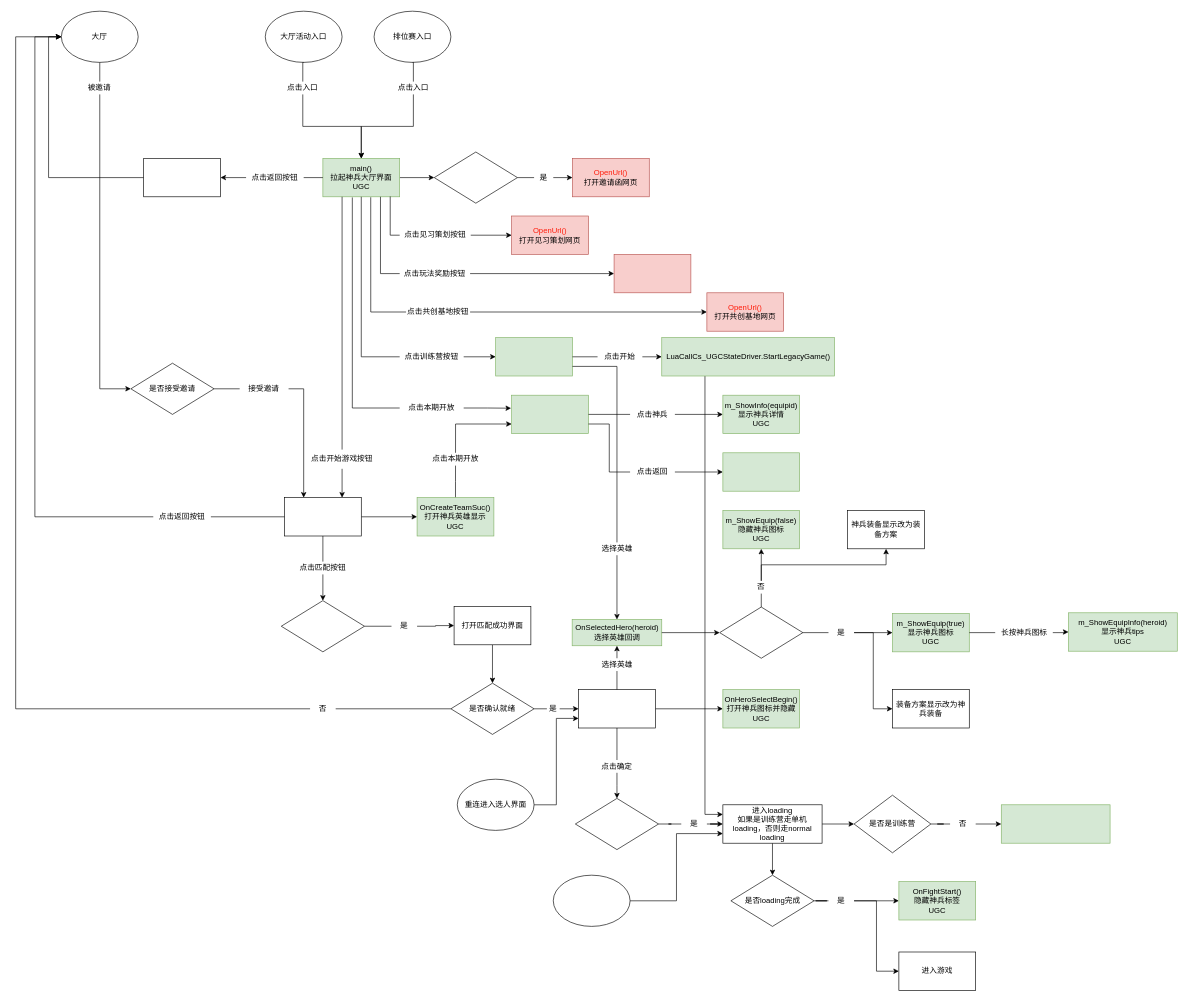
The diagram is 1188 pixels wide and 1002 high, and some of its shapes have lost their labels. Each missing label, with the centre of its shape:
CloseUGC() 退出神兵大厅: the point at 181,177
CreateTeam() 打开组队界面: the point at 322,516
m_CloseHero() 关闭神兵展示界面 UGC: the point at 761,471
m_OpenHero() 打开神兵展示界面 UGC: the point at 549,414
OnLoadingInfoList() 显示神兵标签 UGC: the point at 1055,823
OpenOffline() 打开训练营选人界面 UNITY: the point at 533,356
OpenUrl() 打开玩法奖励网页: the point at 652,273
打开选人界面: the point at 616,708
是否匹配成功: the point at 322,626
是否所有人已准备: the point at 617,824
是否是带神兵英雄: the point at 761,632
是否第一次打开: the point at 475,177
重连进入loading界面: the point at 591,900
